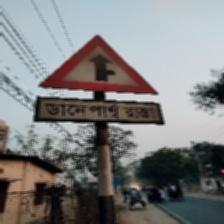Side-road-right: (35, 35, 164, 127)
